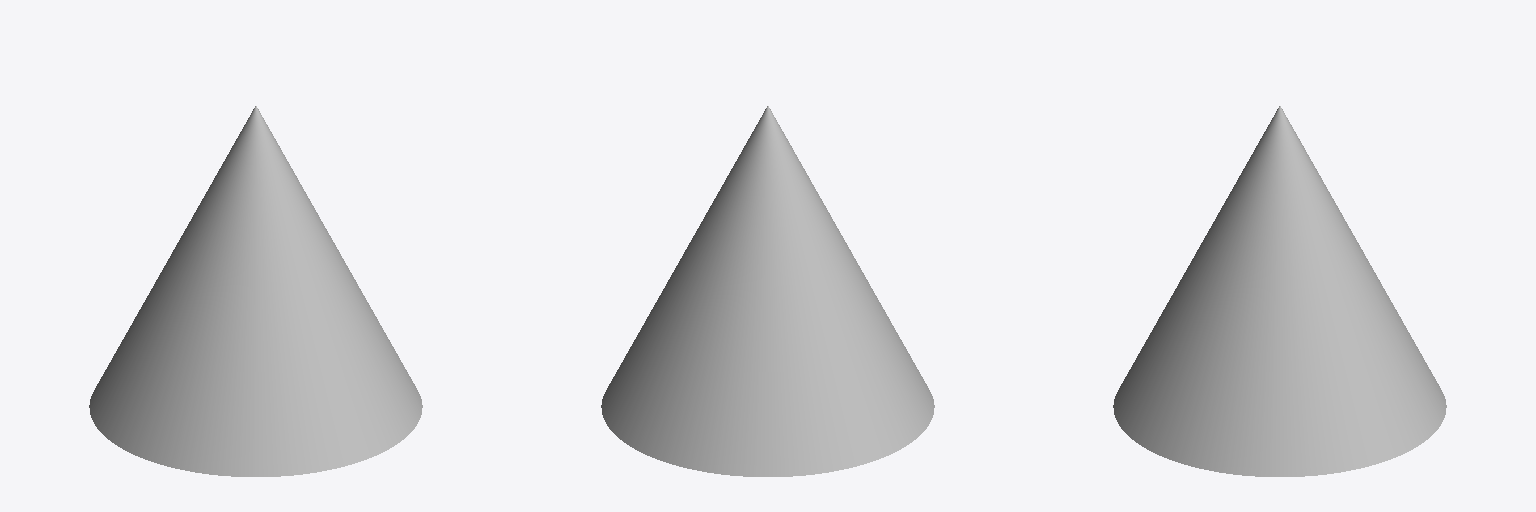
The model's file is cone_triangulated.obj.
3 renders of one model, left to right at view 1: azimuth 30°, elevation 25°; view 2: azimuth 150°, elevation 25°; view 3: azimuth 270°, elevation 25°, orthographic.
Parts seen in each view (by area): view 1: Cone; view 2: Cone; view 3: Cone.
Boxes of the visible parts, x1=… form: Cone: x1=89, y1=106, x2=422, y2=476; Cone: x1=601, y1=106, x2=934, y2=476; Cone: x1=1113, y1=106, x2=1446, y2=476.
Size of the model in its own units: 20 by 20 by 20.